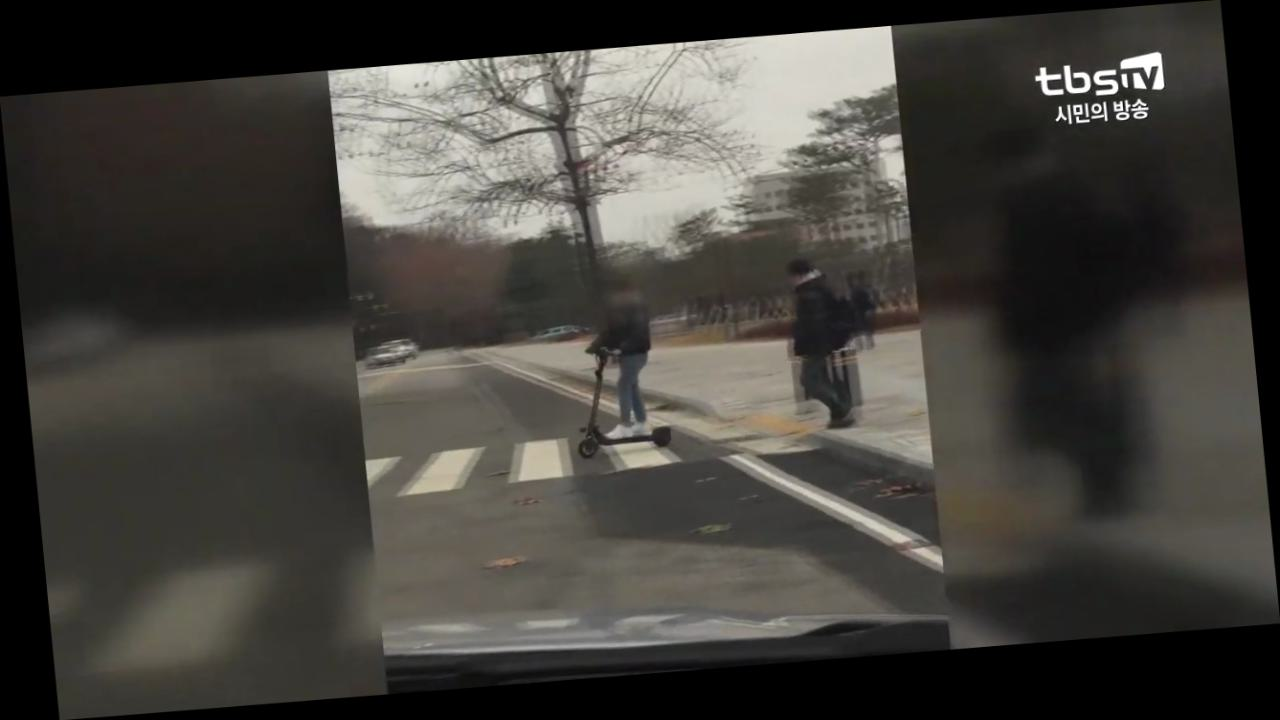nonhelmet: (562, 274, 686, 463)
